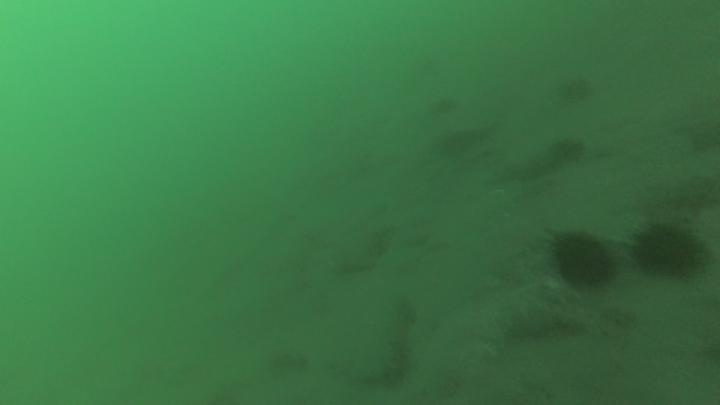echinus: (628, 218, 707, 281), (547, 228, 618, 291), (546, 135, 588, 168), (557, 73, 596, 105)
